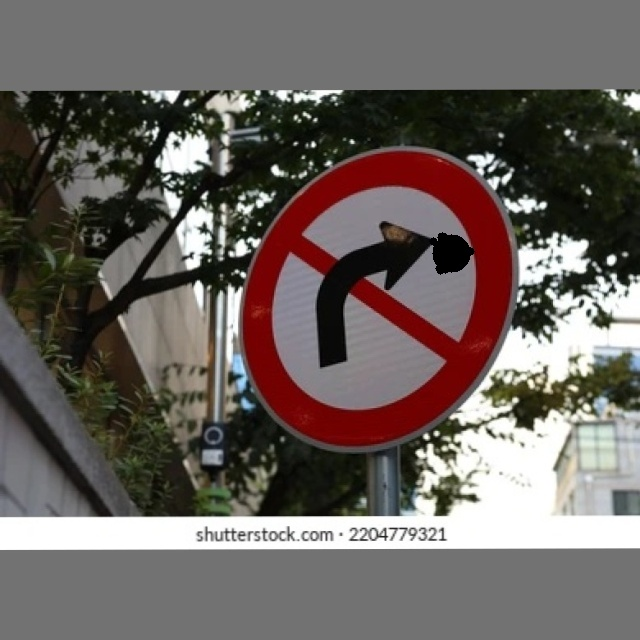Right_Turn_Prohibited: (235, 151, 520, 449)
